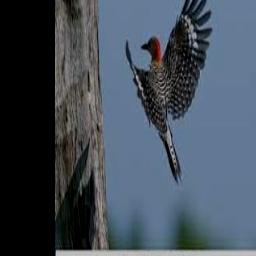Woodpecker: (126, 0, 213, 184)
